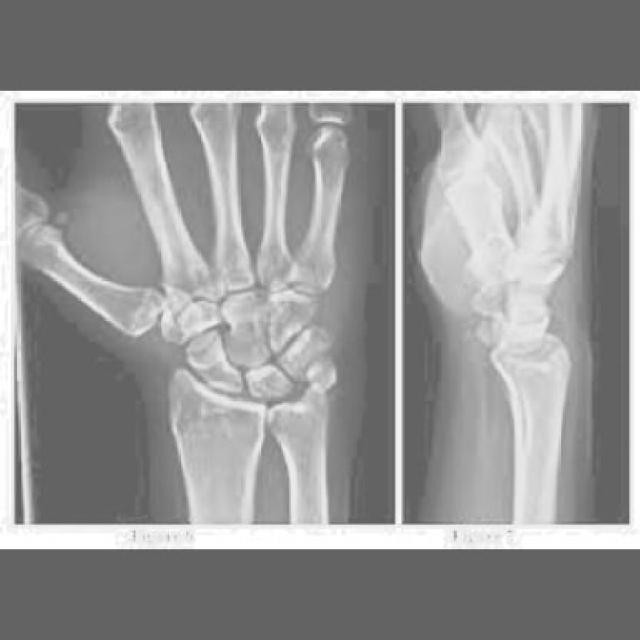Fracture: (297, 349, 336, 383)
